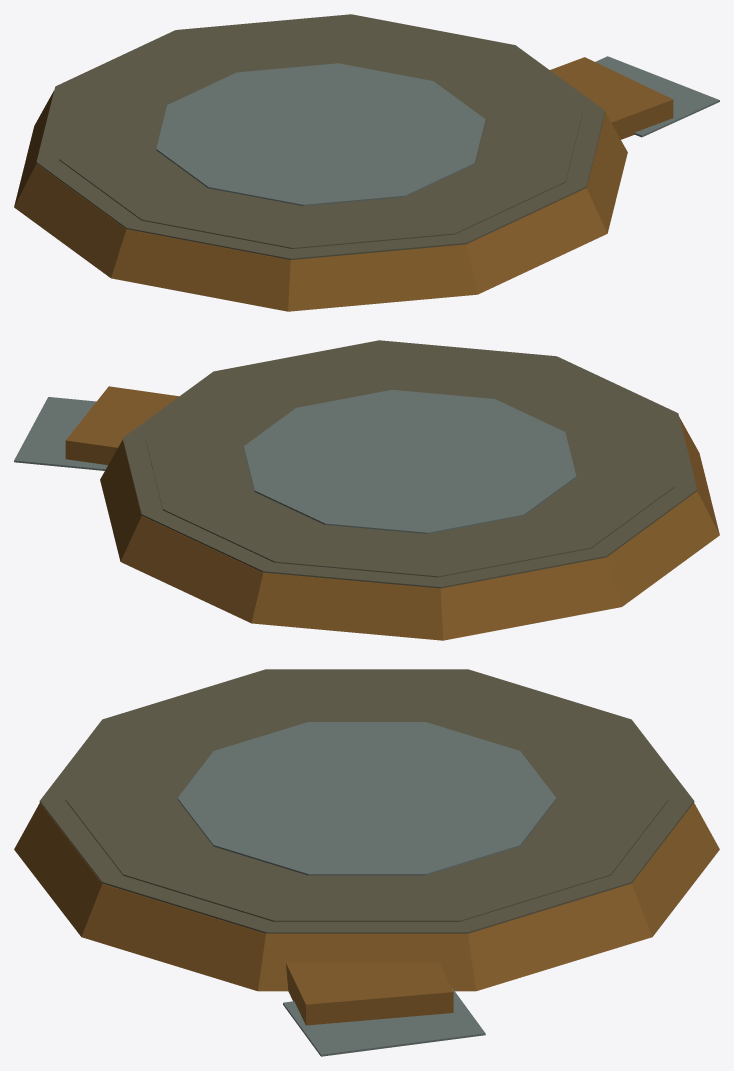
File: SM_Balsa_v4_Rota_LOD1.fbx
The picture shows the model from 3 angles, top to bottom: view 1: azimuth 30°, elevation 25°; view 2: azimuth 150°, elevation 25°; view 3: azimuth 270°, elevation 25°; orthographic projection. The views are drawn at different scales.
Parts seen in each view (by area): view 1: SM_viveres_nules_v19_LOD1; view 2: SM_viveres_nules_v19_LOD1; view 3: SM_viveres_nules_v19_LOD1.
Part boxes in pixels (box(x1,y1,x2,y2)): SM_viveres_nules_v19_LOD1: box(14, 14, 719, 311); SM_viveres_nules_v19_LOD1: box(14, 340, 719, 640); SM_viveres_nules_v19_LOD1: box(14, 669, 719, 1056).
Bounding box in the file's own units: 19.22 × 1.32 × 16.4.
